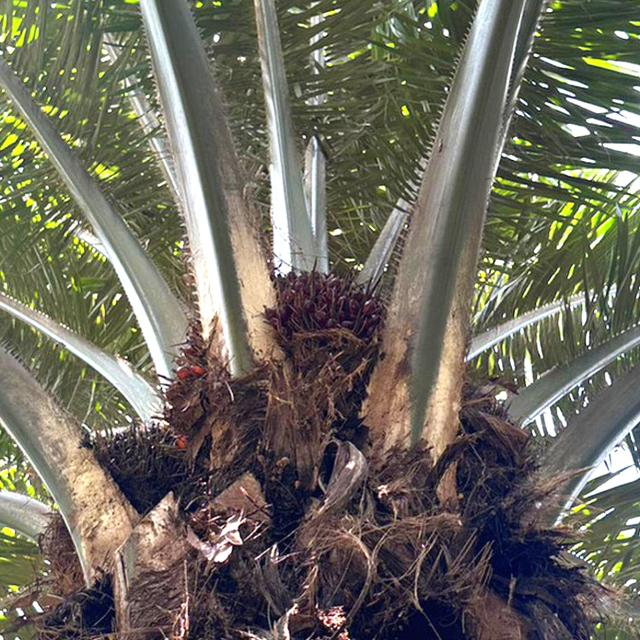ripe: (266, 260, 388, 374), (86, 421, 196, 513), (156, 310, 228, 450)
